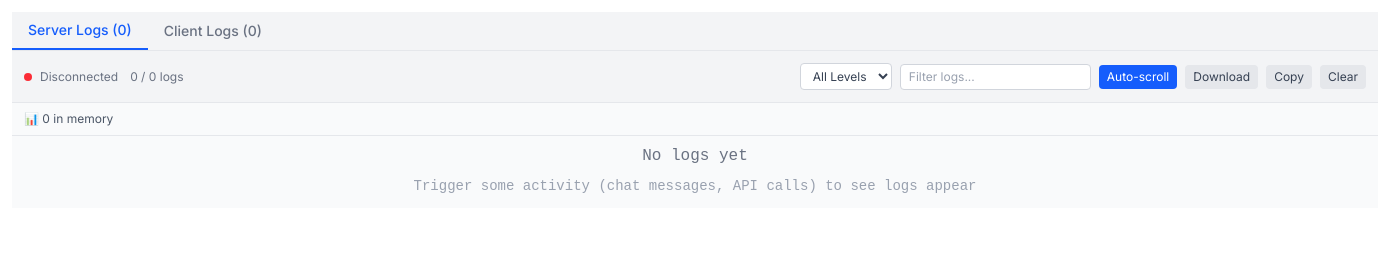
LogViewer Integration Tests › filtering › filters client logs by text
// Switch to client tab
Click the button "Client Logs (0)" at (213, 31), box [148, 12, 278, 50]
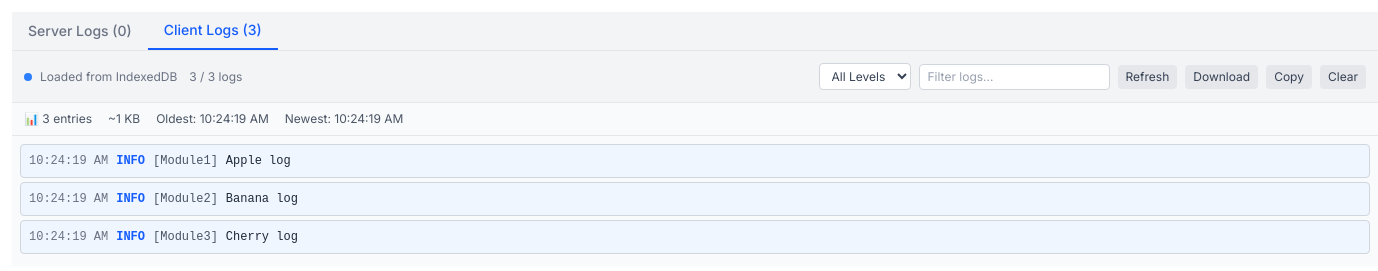
Now the text "Apple log" is shown, box [226, 154, 291, 168]
Now the text "Banana log" is shown, box [226, 192, 298, 206]
Now the text "Cherry log" is shown, box [226, 230, 298, 244]
// Filter by text
Type "Banana" into the field with placeholder "Filter logs..." at (1014, 76), box [918, 64, 1110, 90]
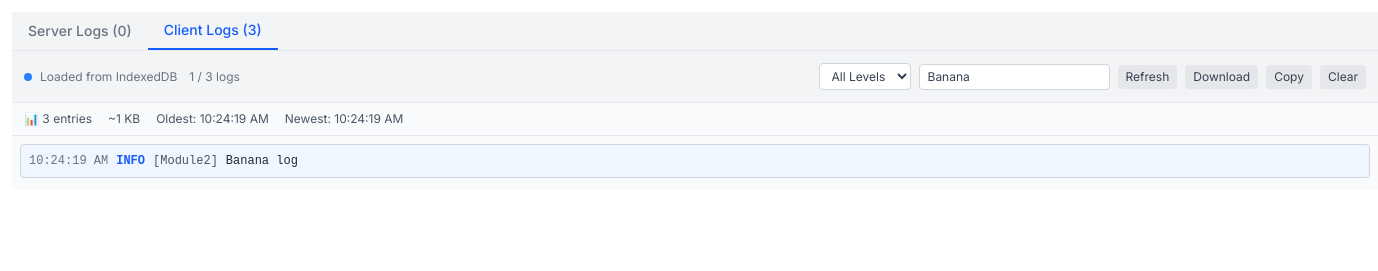
Now the text "Apple log" is gone
Now the text "Banana log" is shown, box [226, 154, 298, 168]
Now the text "Cherry log" is gone
